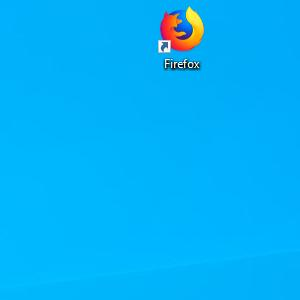firefox: (157, 4, 205, 54)
